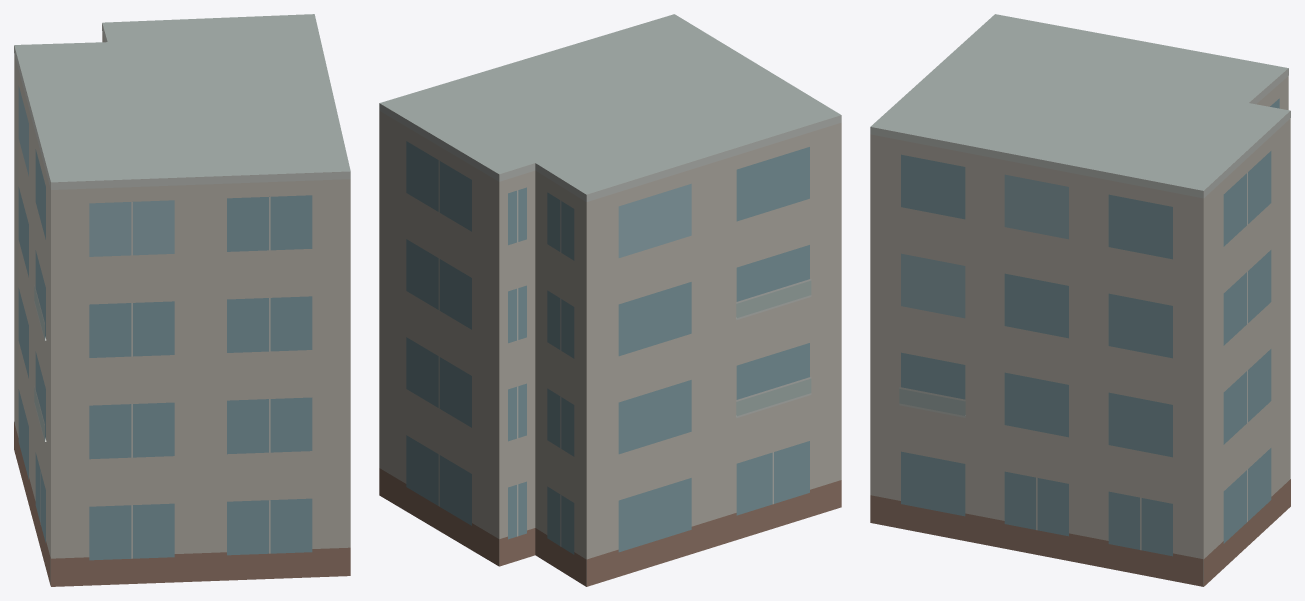
File: survey-upis-32748923.glb
3 renders of one model, left to right at view 1: azimuth 30°, elevation 25°; view 2: azimuth 150°, elevation 25°; view 3: azimuth 270°, elevation 25°, orthographic. The views are drawn at different scales.
Parts seen in each view (by area): view 1: survey-upis-32748923.tmp; view 2: survey-upis-32748923.tmp; view 3: survey-upis-32748923.tmp.
Boxes of the visible parts, bbox=[...] form: survey-upis-32748923.tmp: bbox=[14, 14, 350, 586]; survey-upis-32748923.tmp: bbox=[379, 14, 841, 586]; survey-upis-32748923.tmp: bbox=[870, 14, 1290, 586].
Size of the model in its own units: 12.27 by 12.8 by 12.33.
